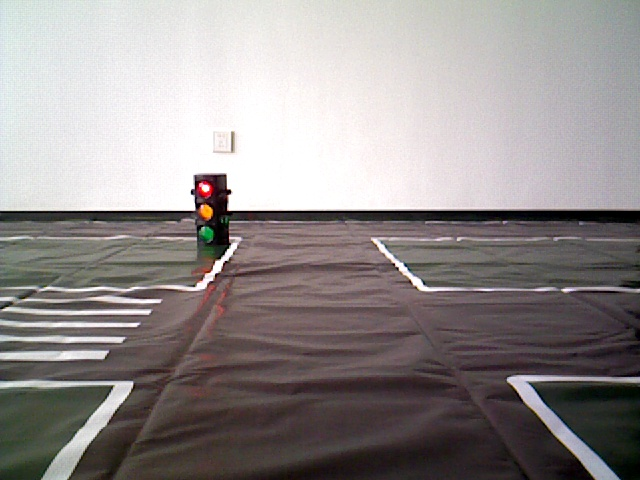red: (196, 176, 224, 247)
